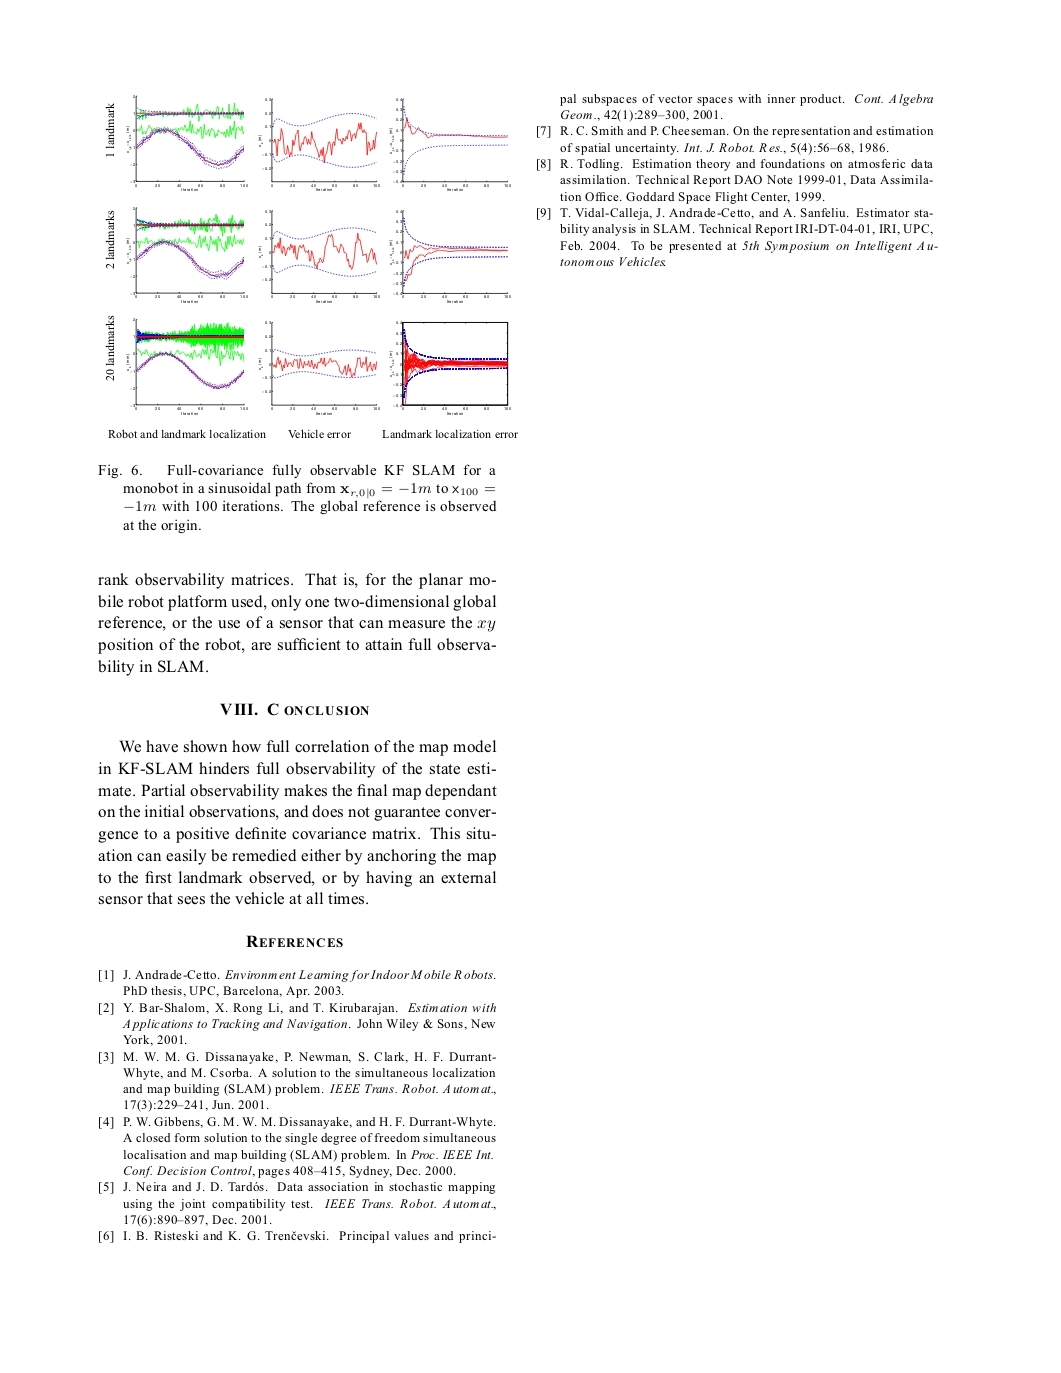figure: (105, 315, 247, 413), (105, 95, 247, 189), (105, 207, 247, 302), (257, 210, 379, 302), (389, 210, 510, 302), (389, 321, 510, 413), (259, 321, 379, 413), (257, 98, 379, 189), (389, 98, 510, 189)
